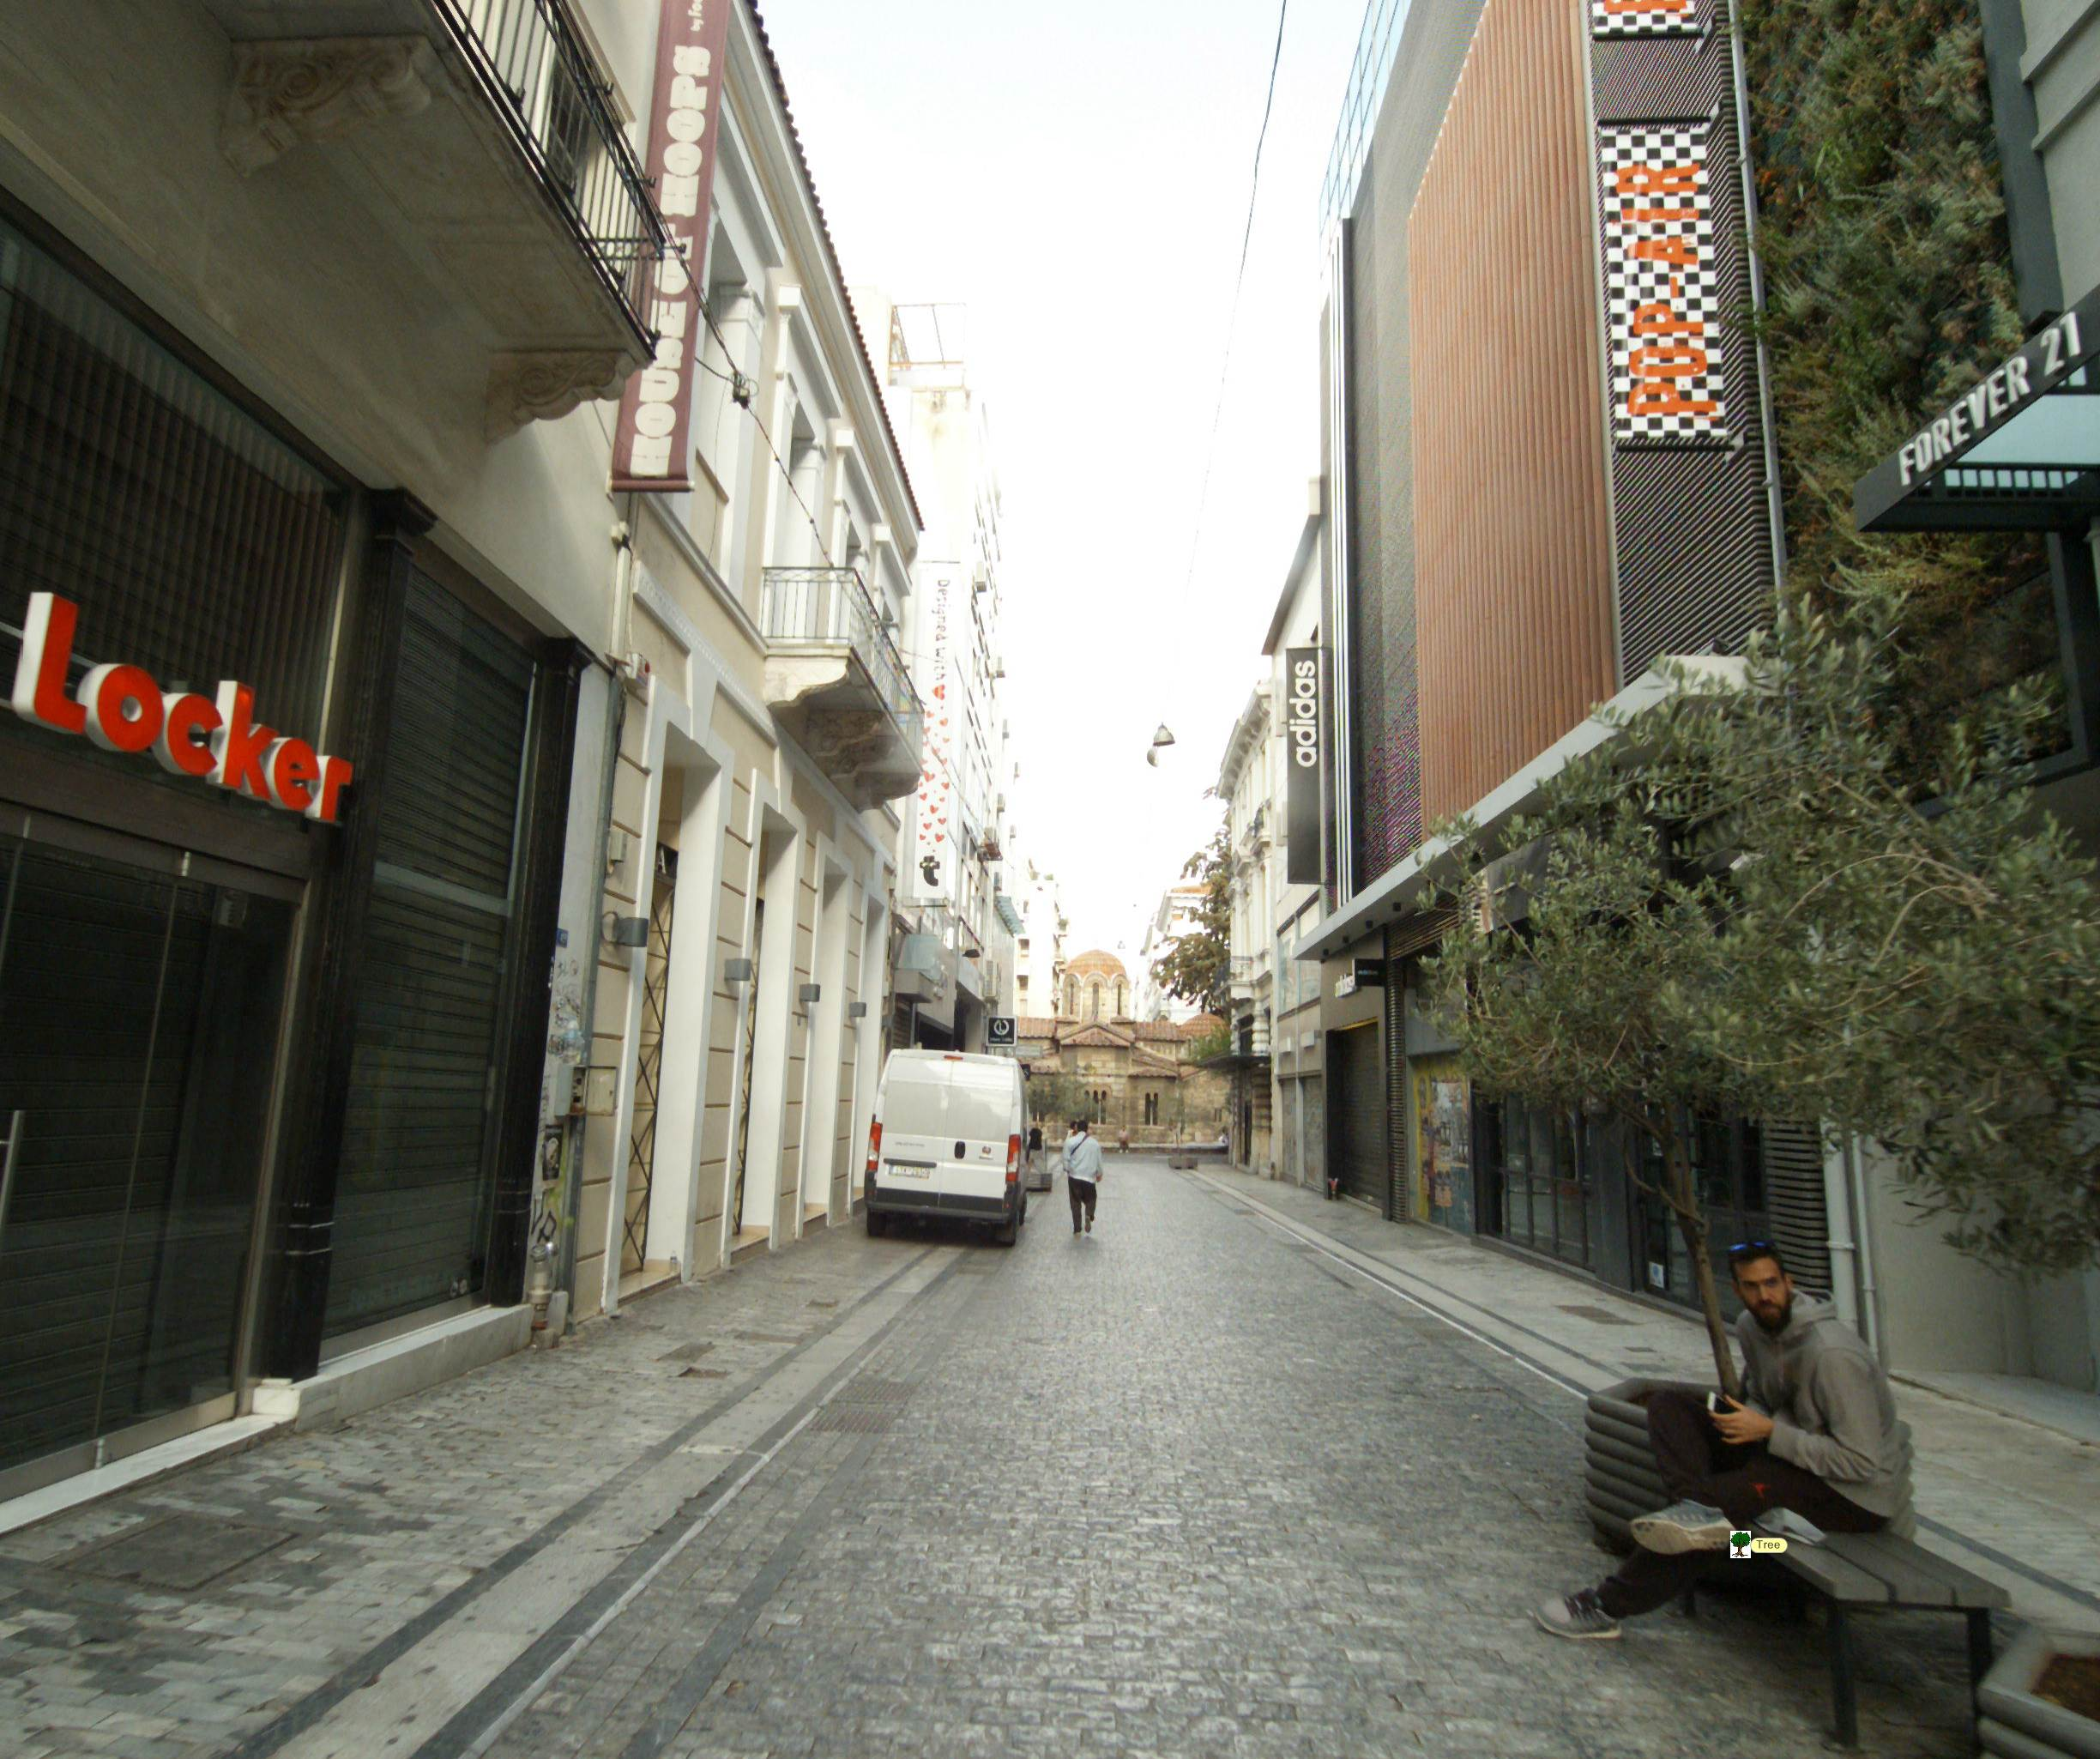tree: (1408, 658, 1924, 1546)
